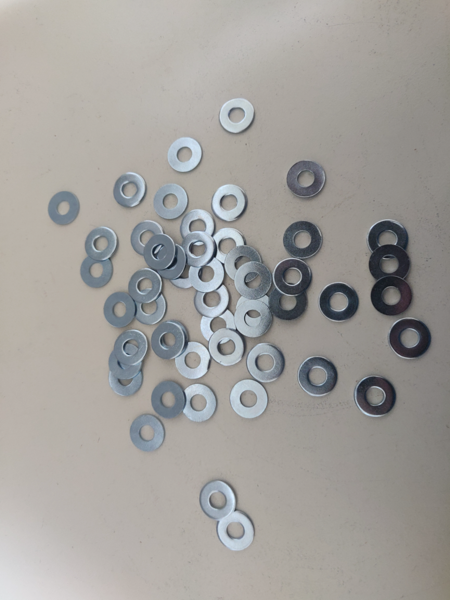circle: (355, 376, 397, 418), (389, 318, 432, 359), (371, 276, 413, 316), (298, 357, 338, 397), (368, 220, 409, 259), (217, 510, 255, 552), (319, 283, 359, 322), (369, 245, 411, 282), (230, 379, 268, 419), (247, 344, 285, 383), (200, 480, 237, 520), (284, 220, 322, 258), (269, 283, 307, 321), (225, 245, 263, 283), (287, 161, 326, 198), (273, 258, 312, 295), (235, 300, 273, 337), (211, 184, 248, 221), (235, 262, 272, 299), (219, 98, 256, 134), (201, 307, 237, 344), (151, 380, 186, 418), (176, 342, 211, 380), (183, 384, 217, 423), (209, 329, 245, 365), (211, 228, 247, 264), (167, 252, 202, 289), (168, 137, 203, 173), (194, 283, 230, 318), (128, 269, 164, 304), (189, 257, 224, 293), (182, 231, 217, 267), (180, 210, 215, 246), (131, 415, 165, 452), (154, 184, 189, 219), (131, 221, 165, 257), (151, 323, 184, 360), (155, 321, 188, 358), (236, 293, 269, 330), (109, 363, 144, 397), (110, 344, 144, 379), (115, 330, 149, 365), (133, 289, 166, 325), (144, 234, 176, 271), (80, 254, 113, 289), (103, 292, 136, 327), (85, 227, 118, 261), (155, 244, 186, 280), (114, 173, 146, 207), (48, 192, 80, 225)
